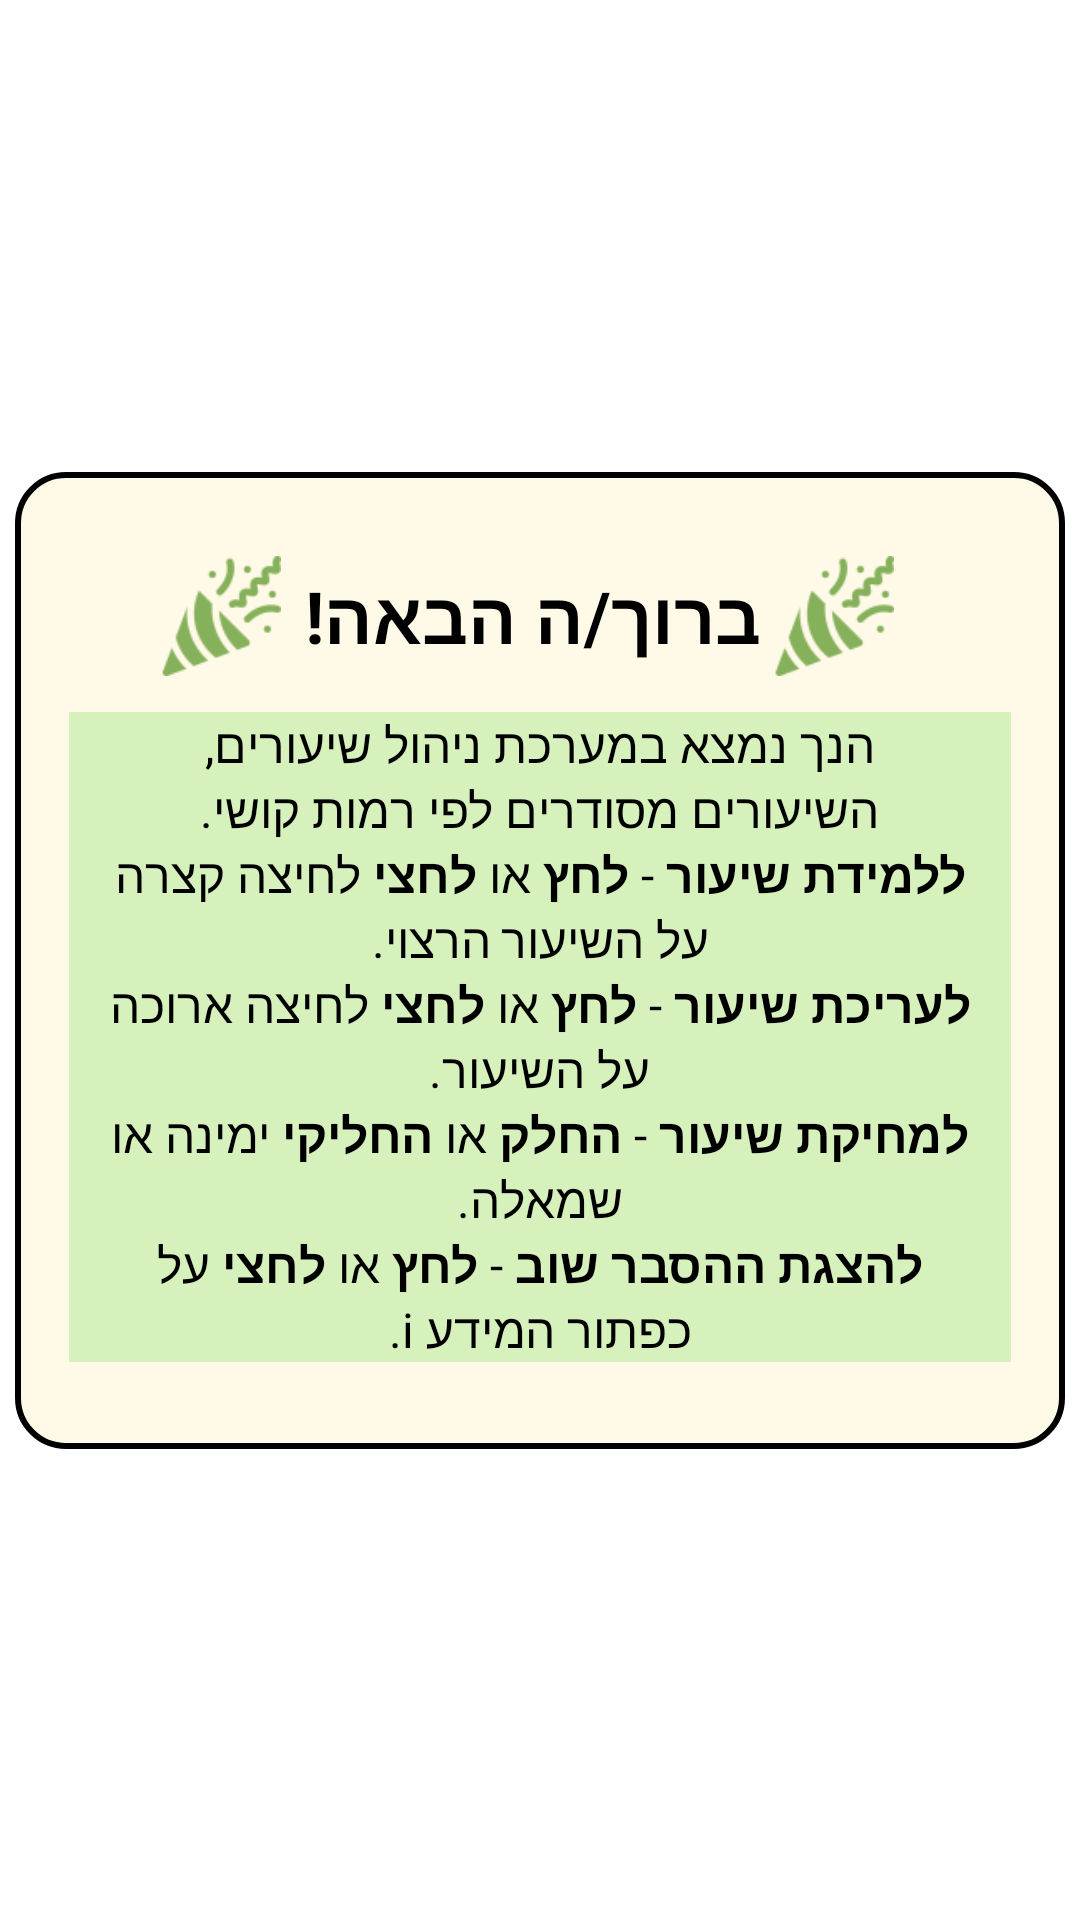

Named icons in this screenshot (1080x1920) and their bounding boxes, (x1, y1, x2, y2):
party: (162, 556, 281, 676), (775, 556, 894, 676)
